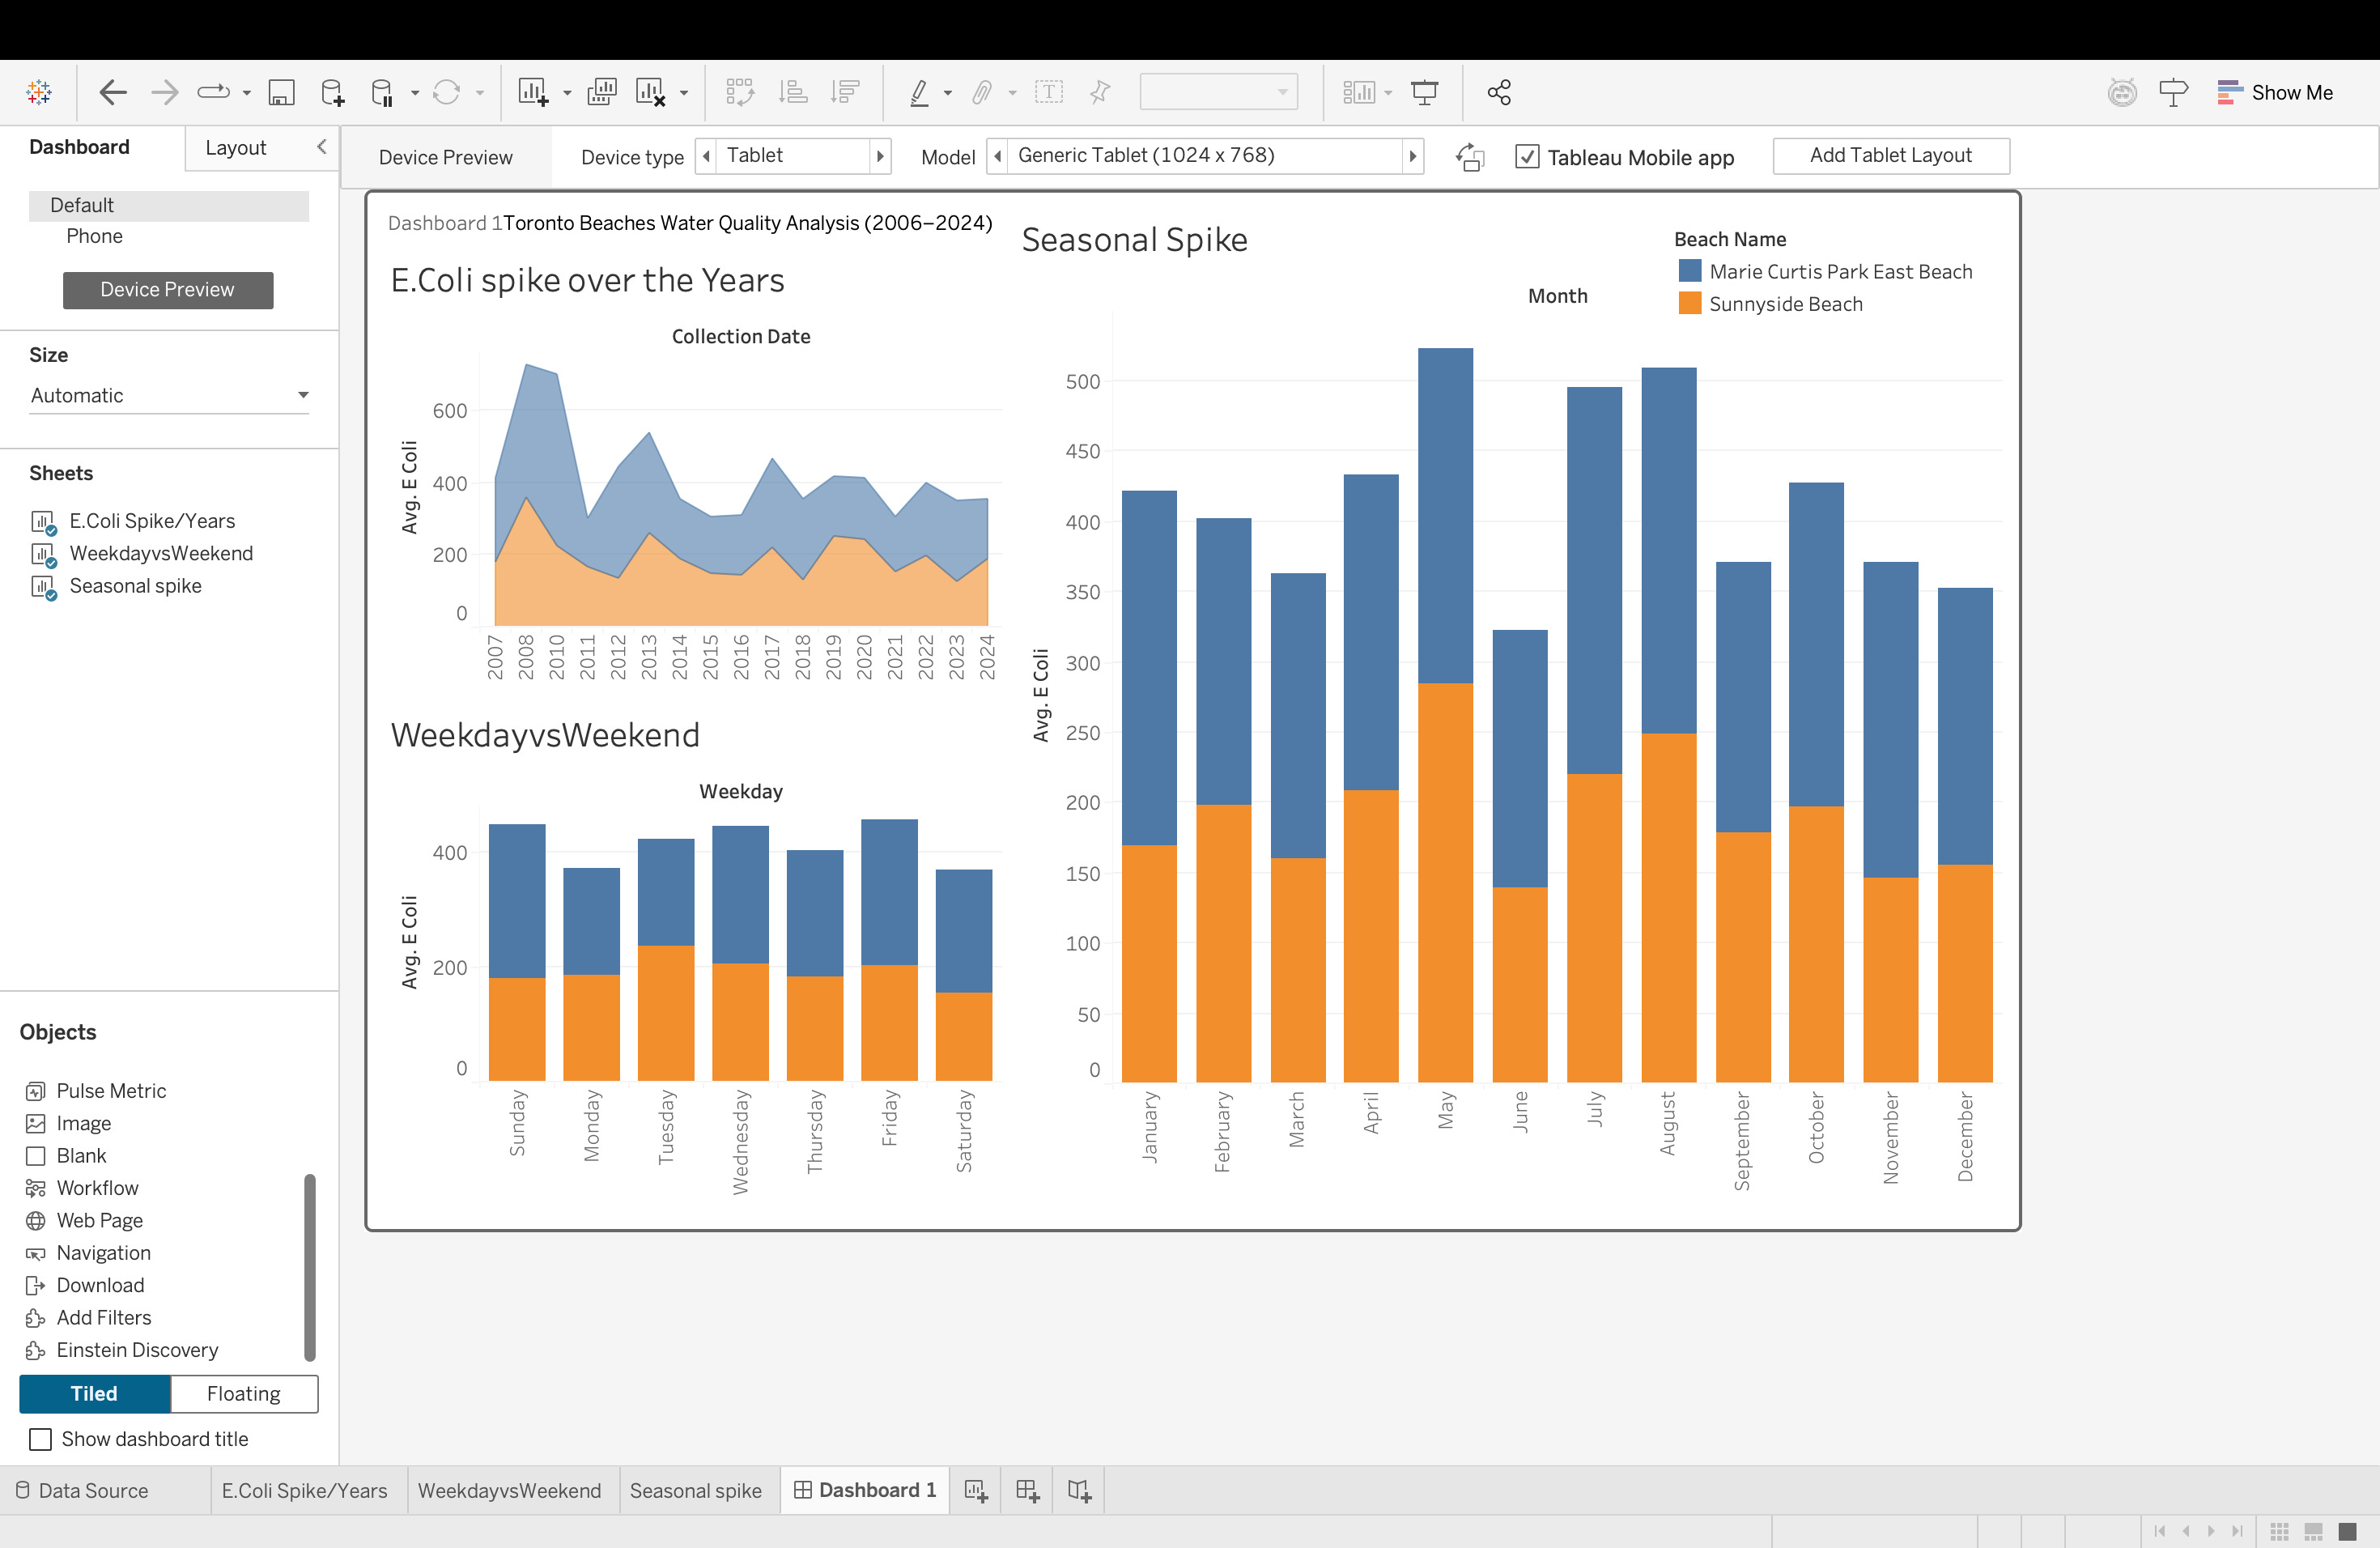

What the dashboard file says about the page in this screenshot:
{"tool":"tableau","page":{"name":"Toronto_Beach_Water_Quality_Analysis.twbx","canvas":[1000,1000],"units":"permille","ordinal":0},"visuals":[{"type":"text","box":[7.8,12.4,380.9,63.7]},{"type":"worksheet","title":"Seasonal spike","mark":"Automatic","rows":["eColi"],"cols":["Month"],"box":[388.7,12.4,603.5,975.2]},{"type":"legend","title":"Seasonal spike","param":"[federated.16zls091t86i9g14xviwq1h42woh].[none:beachName:nk]","box":[790,34.2,190.4,111.8]},{"type":"worksheet","title":"E.Coli Spike/Years","mark":"Area","rows":["eColi"],"cols":["collectionDate"],"box":[7.8,76.1,380.9,424.7]},{"type":"worksheet","title":"WeekdayvsWeekend","mark":"Automatic","rows":["eColi"],"cols":["Weekday"],"box":[7.8,500.8,380.9,486.8]}]}

Visuals, with their boxes on the dashboard's canvas, which has no fixed pixel size, in thousandths of its width and height (x1, y1, x2, y2). These are canvas units, not pixel positions in the 2380x1548 screenshot, which may show the page scaled, cropped or inside an application window:
text: box(8, 12, 389, 76)
"Seasonal spike" worksheet: box(389, 12, 992, 988)
"Seasonal spike" legend: box(790, 34, 980, 146)
"E.Coli Spike/Years" worksheet (Area marks): box(8, 76, 389, 501)
"WeekdayvsWeekend" worksheet: box(8, 501, 389, 988)
